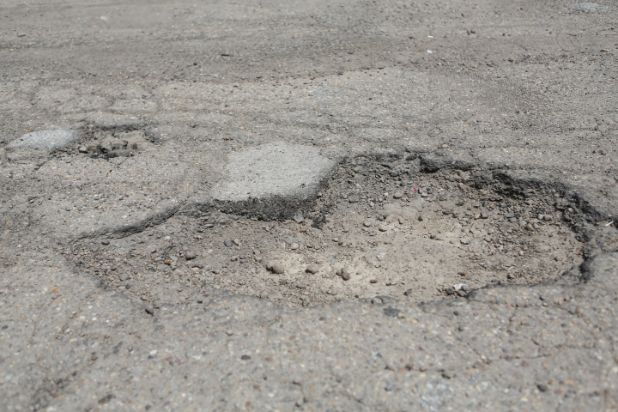pothole: (61, 147, 595, 310), (60, 114, 156, 163)
